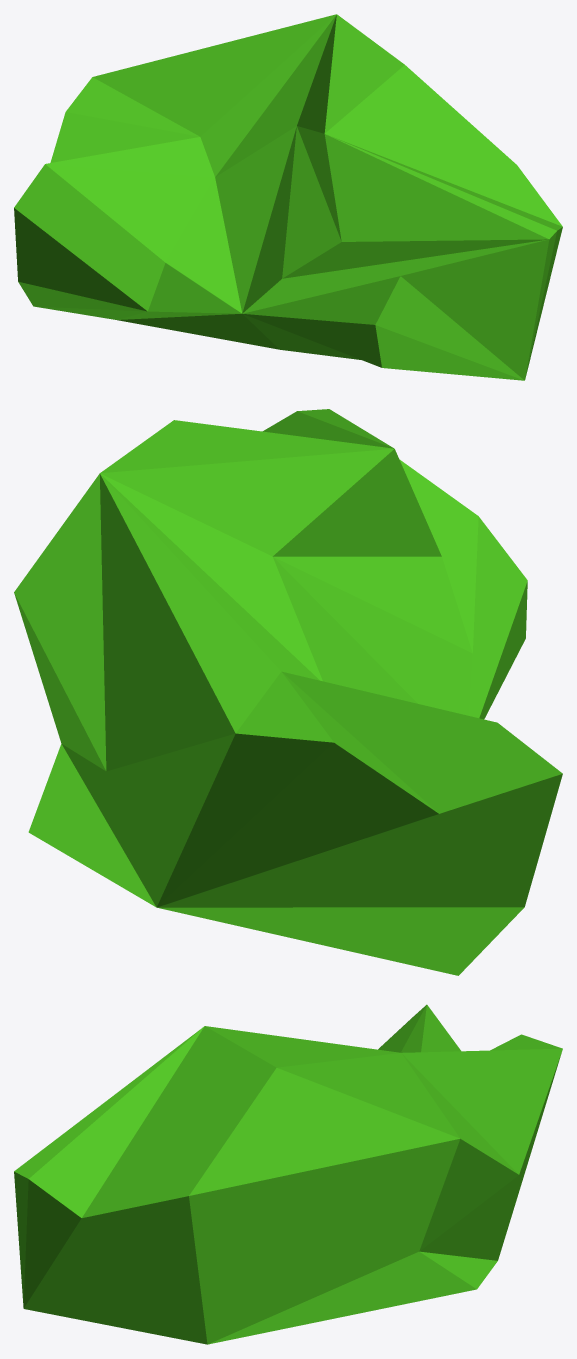
File: kust_3.fbx
3 views of the same model, one above another, from view 1: azimuth 30°, elevation 25°; view 2: azimuth 150°, elevation 25°; view 3: azimuth 270°, elevation 25° (orthographic). The views are drawn at different scales.
Visible parts, largest first — view 1: Cube.006; view 2: Cube.006; view 3: Cube.006.
Part boxes in pixels (x1,y1,x2,y2): Cube.006: (14, 14, 562, 380); Cube.006: (14, 409, 562, 975); Cube.006: (14, 1004, 562, 1344).
Bounding box in the file's own units: 222 × 133 × 251.
